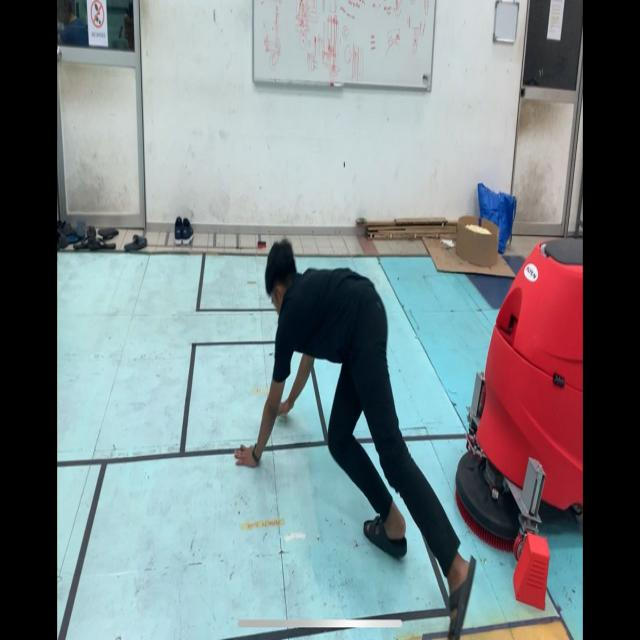Fall-Detected: (237, 235, 476, 625)
